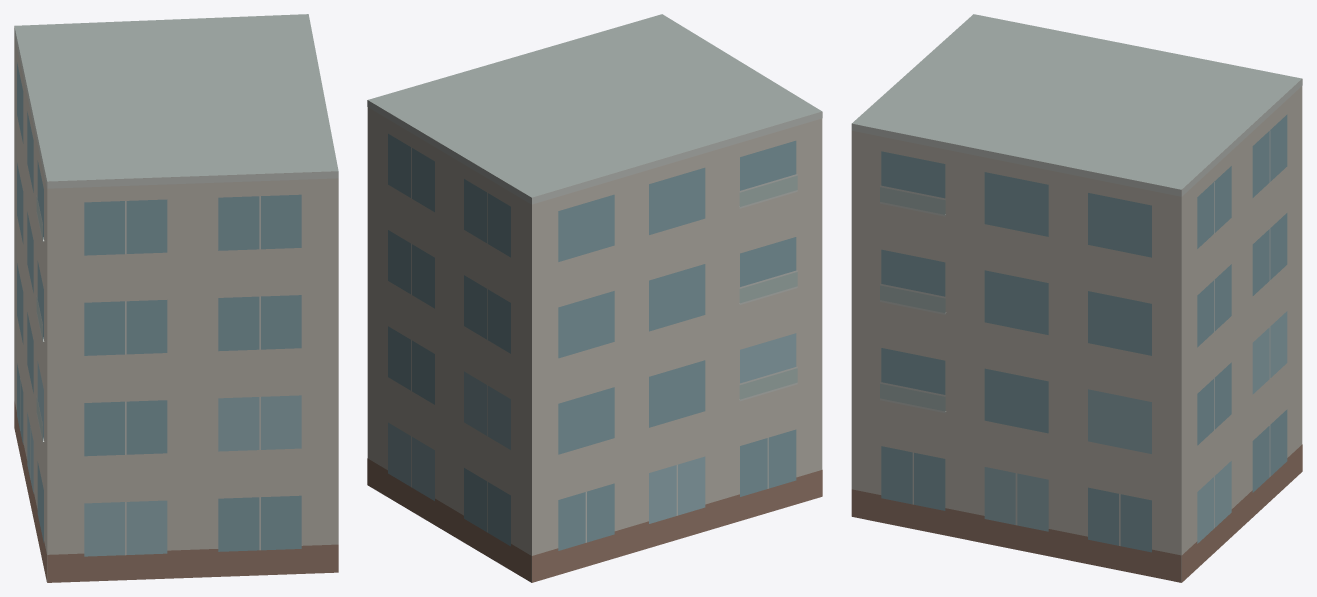
Rendered from survey-upis-32633024.glb.
3 renders of one model, left to right at view 1: azimuth 30°, elevation 25°; view 2: azimuth 150°, elevation 25°; view 3: azimuth 270°, elevation 25°, orthographic. The views are drawn at different scales.
Parts seen in each view (by area): view 1: survey-upis-32633024.tmp; view 2: survey-upis-32633024.tmp; view 3: survey-upis-32633024.tmp.
Boxes of the visible parts, x1,y1,x2,y2 form: survey-upis-32633024.tmp: [14, 14, 338, 582]; survey-upis-32633024.tmp: [367, 14, 822, 582]; survey-upis-32633024.tmp: [851, 14, 1302, 582].
Size of the model in its own units: 13 by 13.55 by 14.09.
